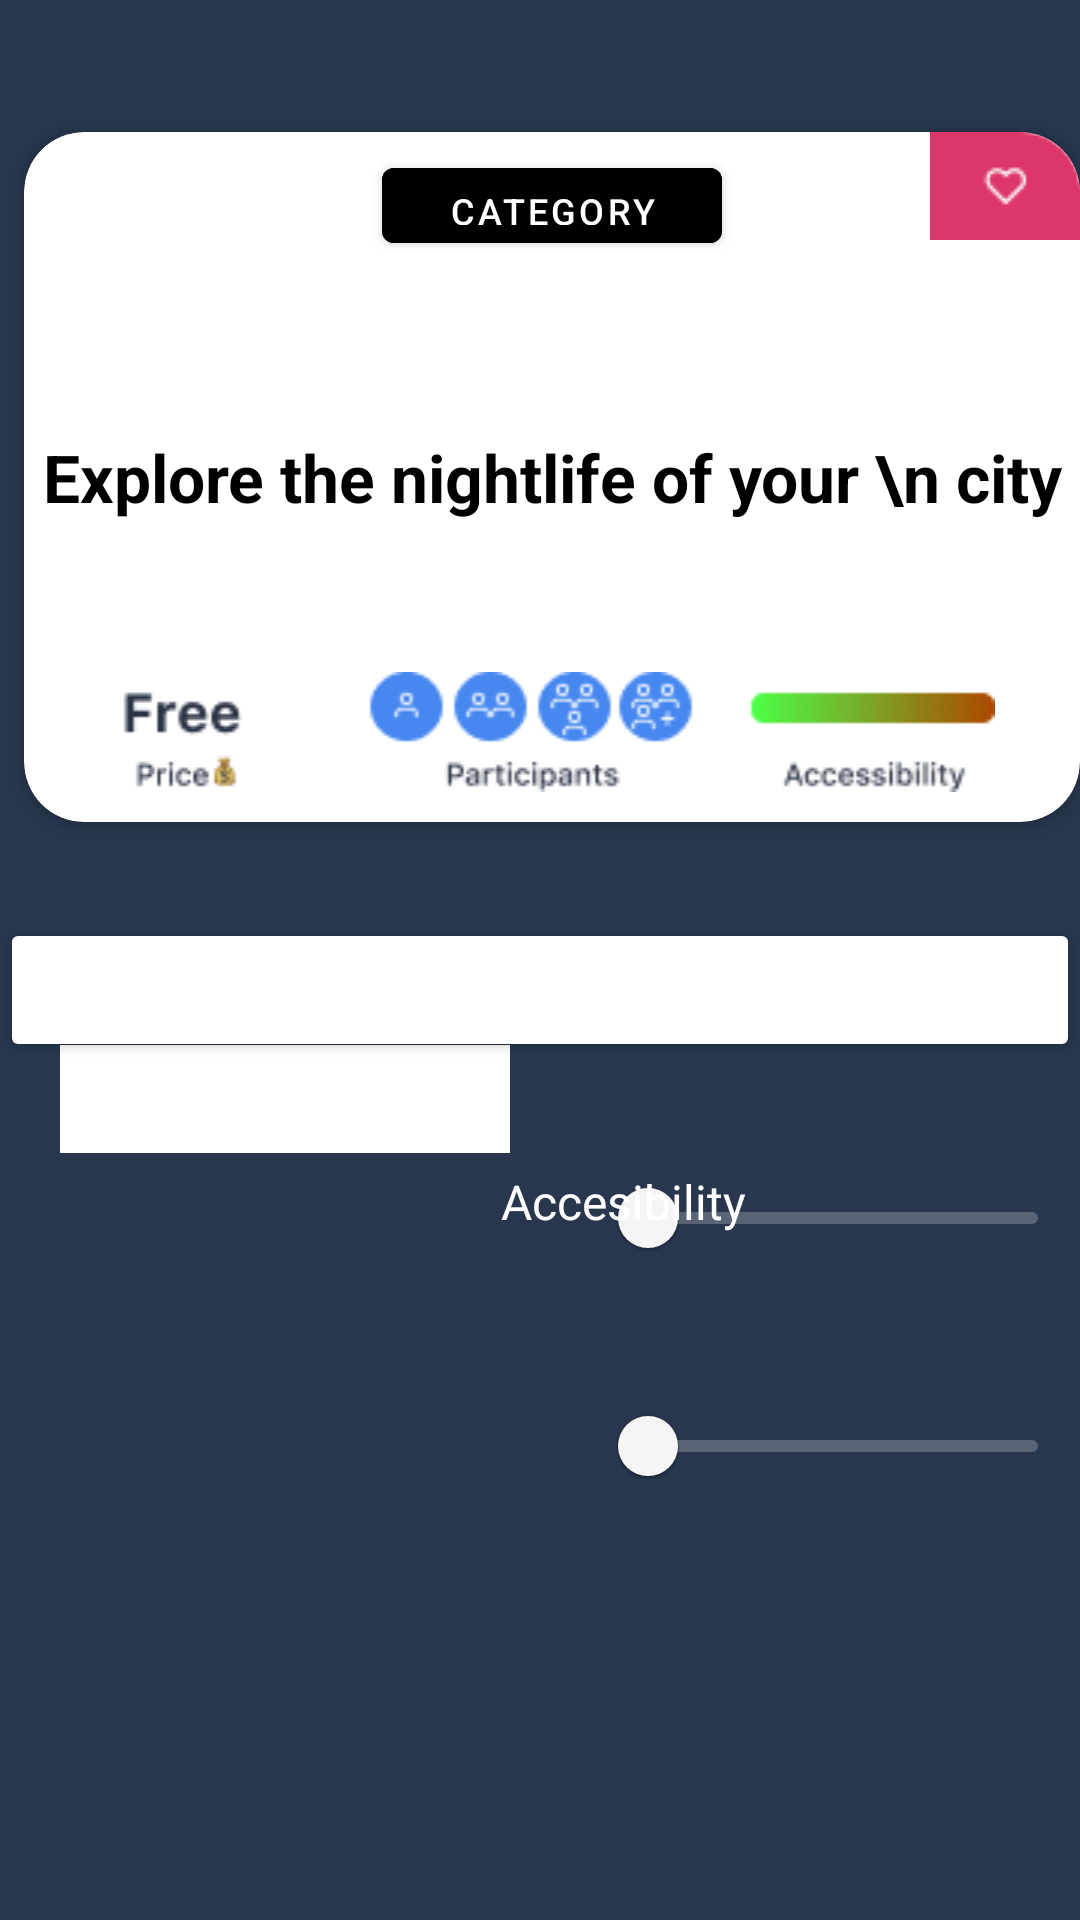

Icon bounding boxes for this 1080w x 1920h phone screenshot, format box(x1, y1, x2, y2):
heart: box(930, 132, 1080, 240)
